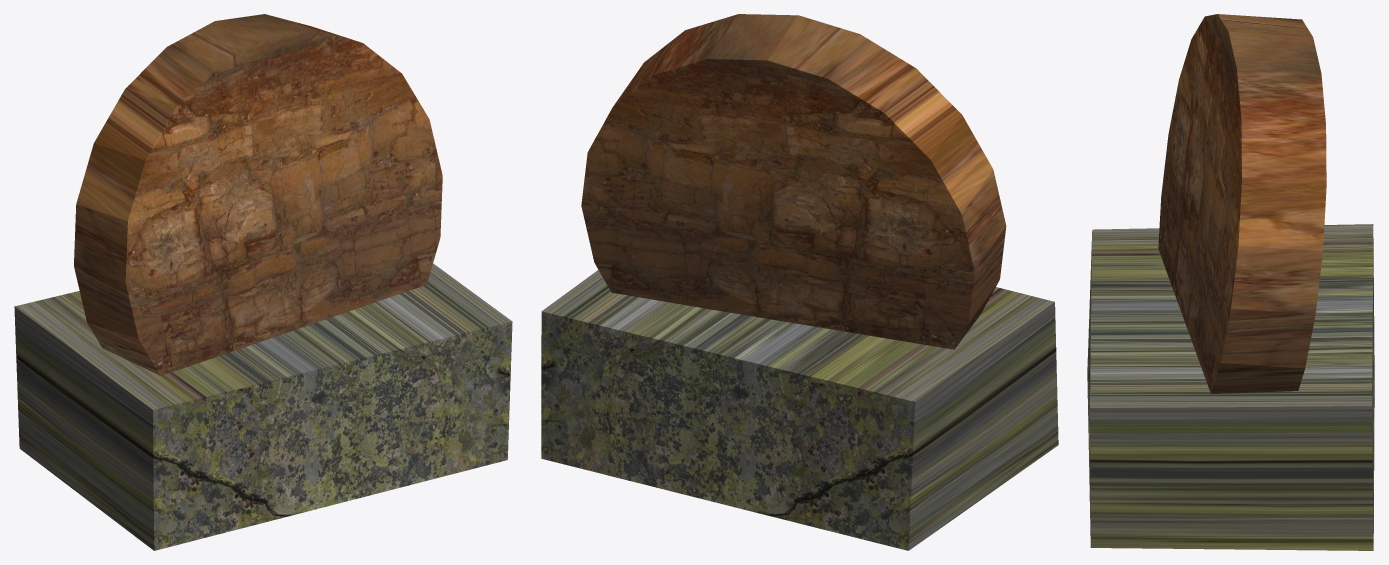
File: piedra_molino.glb
3 renders of one model, left to right at view 1: azimuth 30°, elevation 25°; view 2: azimuth 150°, elevation 25°; view 3: azimuth 270°, elevation 25°, orthographic. The views are drawn at different scales.
Parts seen in each view (by area): view 1: PiedraMolino; view 2: PiedraMolino; view 3: PiedraMolino.
Part boxes in pixels (box(x1,y1,x2,y2)): PiedraMolino: box(14, 14, 512, 550); PiedraMolino: box(541, 14, 1058, 550); PiedraMolino: box(1087, 14, 1374, 550).
Bounding box in the file's own units: 1.89 × 2.1 × 1.26.
2 materials, 2 textured.
